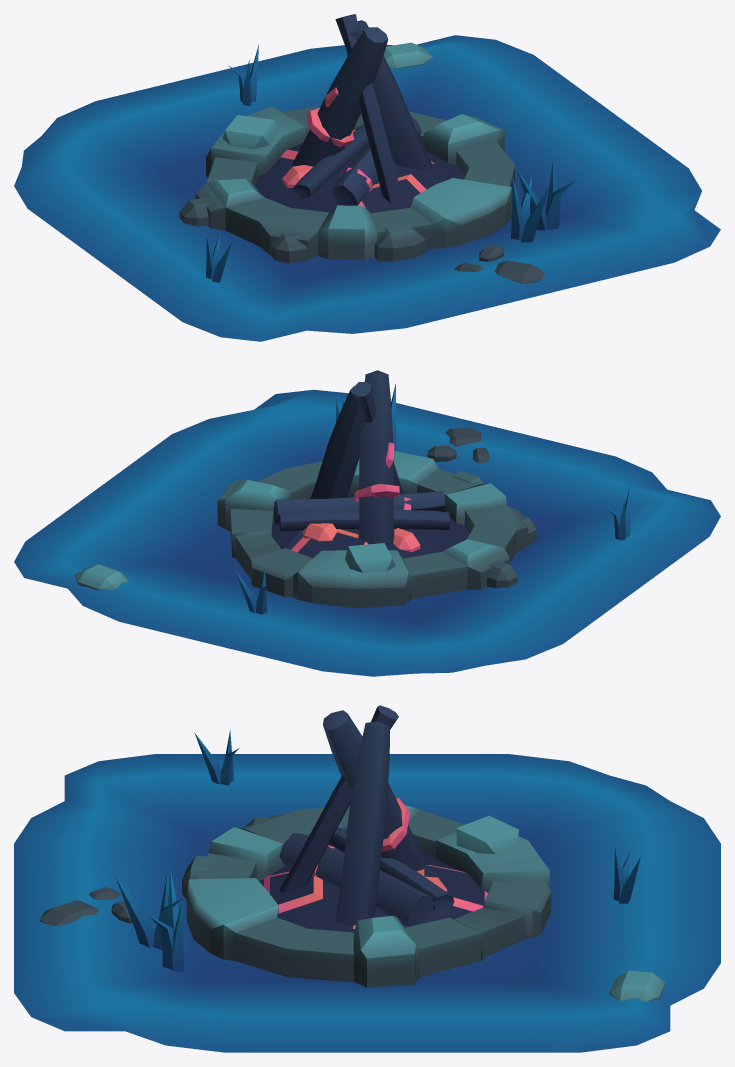
File: Bonfire.fbx
3 renders of one model, top to bottom at view 1: azimuth 30°, elevation 25°; view 2: azimuth 150°, elevation 25°; view 3: azimuth 270°, elevation 25°, orthographic. The views are drawn at different scales.
Visible parts, largest first — view 1: pPipe2; view 2: pPipe2; view 3: pPipe2.
Boxes of the visible parts, x1=… form: pPipe2: x1=14, y1=14, x2=720, y2=341; pPipe2: x1=14, y1=370, x2=720, y2=676; pPipe2: x1=14, y1=705, x2=720, y2=1052.
Bounding box in the file's own units: 6.93 × 2.53 × 6.93.
